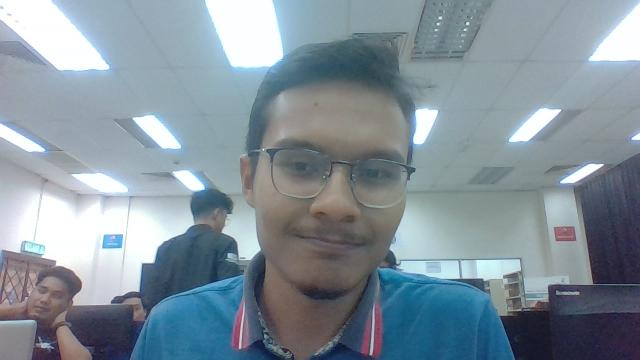senang: (255, 72, 415, 296)
